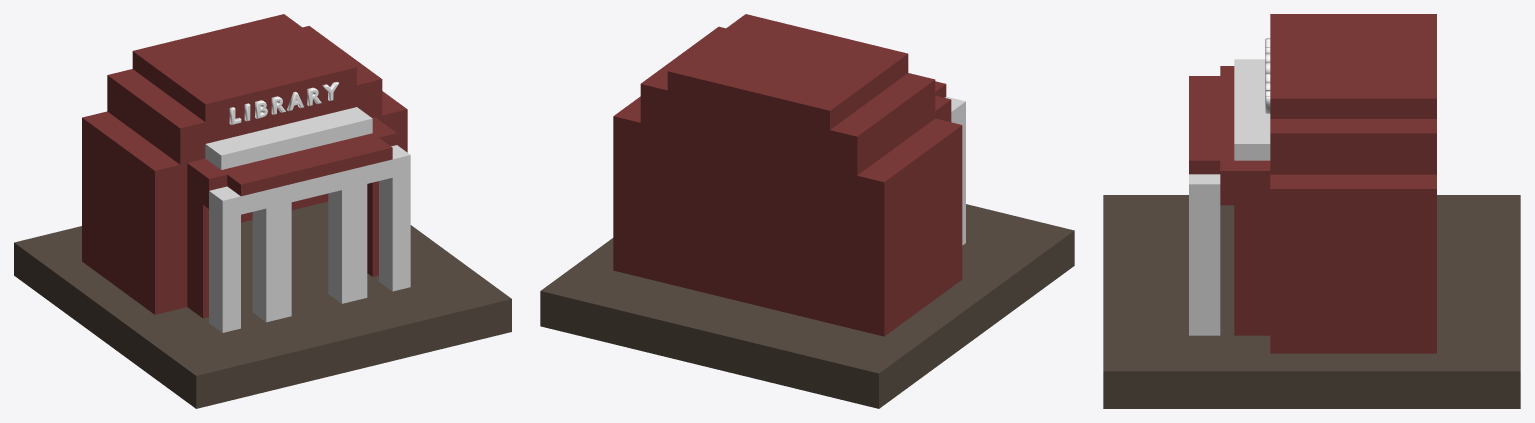
File: library-2.glb
3 renders of one model, left to right at view 1: azimuth 30°, elevation 25°; view 2: azimuth 150°, elevation 25°; view 3: azimuth 270°, elevation 25°, orthographic. The views are drawn at different scales.
Parts seen in each view (by area): view 1: Library::New; view 2: Library::New; view 3: Library::New.
Part boxes in pixels (x1=…): Library::New: x1=14, y1=14, x2=511, y2=408; Library::New: x1=540, y1=14, x2=1074, y2=408; Library::New: x1=1103, y1=14, x2=1520, y2=408.
Bounding box in the file's own units: 1 × 0.7 × 1.
